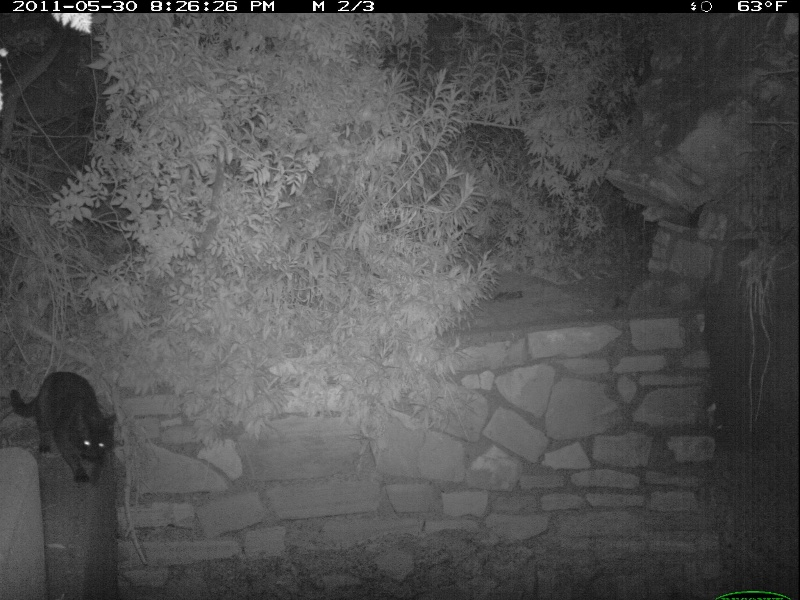cat: (11, 368, 120, 480)
